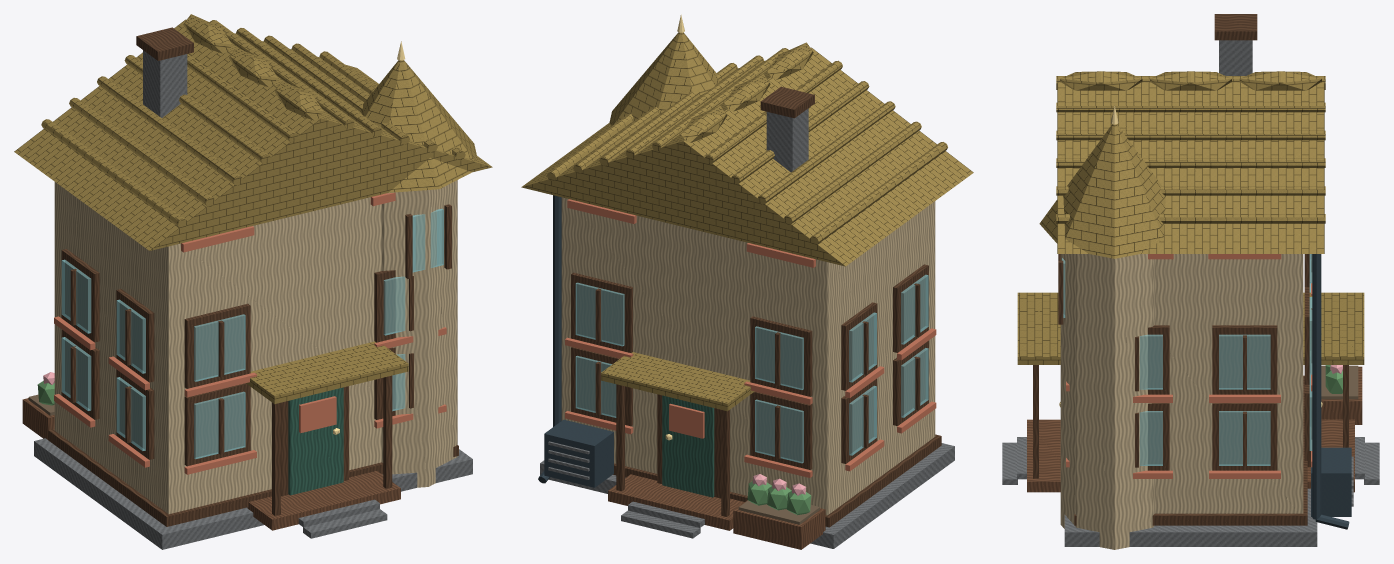
File: house_cottage_lv5_tower.glb
3 views of the same model, side by side, from view 1: azimuth 30°, elevation 25°; view 2: azimuth 150°, elevation 25°; view 3: azimuth 270°, elevation 25° (orthographic). The views are drawn at different scales.
Visible parts, largest first — view 1: walls, gable_roof, tower, foundation, tower_roof, front_porch_canopy, front_window_frame.002, front_door, front_window_frame, front_deck, floor_trim, front_window_glass (+38 smaller); view 2: walls, gable_roof, back_porch_canopy, tower_roof, back_door, back_window_frame.002, foundation, back_window_frame.003, back_window_frame, back_ac_unit, back_deck, back_window_frame.001 (+42 smaller); view 3: walls, gable_roof, tower, tower_roof, foundation, right_window_frame.003, right_window_frame.001, back_porch_canopy, front_porch_canopy, thatch_course.005, thatch_course.006, right_window_glass.003 (+28 smaller).
Boxes of the visible parts, box(x1,y1,x2,y2) form: walls: box(54, 182, 381, 513); gable_roof: box(14, 19, 492, 250); tower: box(381, 180, 457, 487); foundation: box(34, 438, 472, 549); tower_roof: box(360, 60, 476, 192); front_porch_canopy: box(246, 341, 408, 404); front_window_frame.002: box(184, 303, 250, 388); front_door: box(288, 387, 343, 495); front_window_frame: box(184, 383, 250, 466); front_deck: box(247, 471, 400, 530); floor_trim: box(48, 428, 458, 526); front_window_glass: box(194, 391, 245, 459); walls: box(561, 197, 935, 515); gable_roof: box(521, 47, 973, 266); back_porch_canopy: box(601, 352, 754, 411); tower_roof: box(609, 32, 719, 125); back_door: box(662, 395, 714, 497); back_window_frame.002: box(750, 316, 812, 396); foundation: box(540, 443, 954, 548); back_window_frame.003: box(571, 272, 632, 352); back_window_frame: box(750, 391, 812, 469); back_ac_unit: box(544, 419, 613, 487); back_deck: box(608, 474, 744, 530); back_window_frame.001: box(571, 347, 632, 426); walls: box(1154, 254, 1303, 513); gable_roof: box(1057, 82, 1324, 253); tower: box(1060, 254, 1154, 549); tower_roof: box(1039, 124, 1165, 258); foundation: box(1064, 488, 1317, 546); right_window_frame.003: box(1212, 325, 1277, 394); right_window_frame.001: box(1212, 403, 1277, 470); back_porch_canopy: box(1303, 292, 1364, 364); front_porch_canopy: box(1017, 292, 1060, 364); thatch_course.005: box(1056, 102, 1325, 112); thatch_course.006: box(1056, 130, 1325, 140); right_window_glass.003: box(1219, 334, 1270, 389).
Bounding box in the file's own units: 6.6 × 7.6 × 6.19.
Materials: 13 (7 with a texture image).
